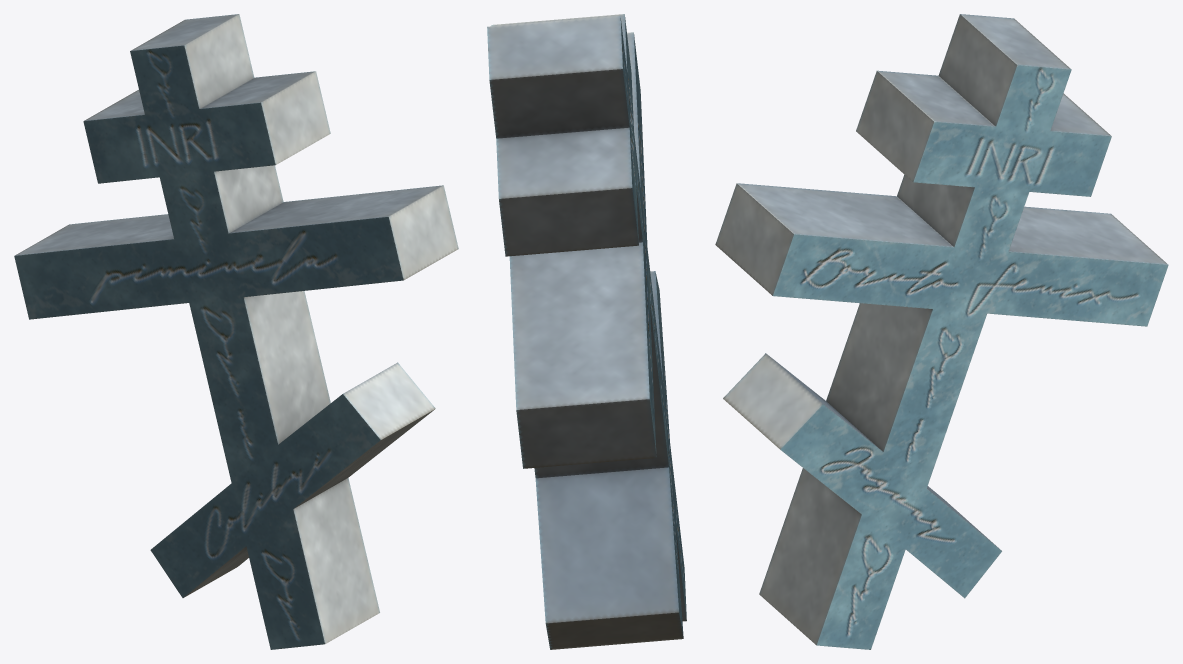
The picture shows the model from 3 angles, left to right: view 1: azimuth 30°, elevation 25°; view 2: azimuth 150°, elevation 25°; view 3: azimuth 270°, elevation 25°; orthographic projection. The views are drawn at different scales.
Visible parts, largest first — view 1: Cruz_Orto_Cube.011; view 2: Cruz_Orto_Cube.011; view 3: Cruz_Orto_Cube.011.
Boxes of the visible parts, x1,y1,x2,y2 form: Cruz_Orto_Cube.011: (14,14,458,649); Cruz_Orto_Cube.011: (487,14,686,649); Cruz_Orto_Cube.011: (715,14,1168,649).
Bounding box in the file's own units: 1.4 × 2.69 × 1.89.
